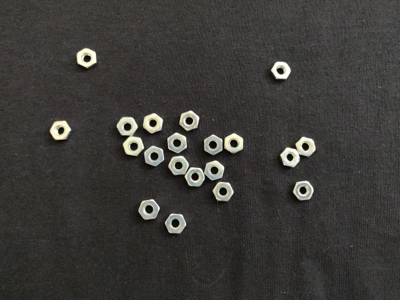nut: (142, 112, 164, 136), (49, 120, 74, 141), (291, 181, 316, 202), (76, 48, 98, 71), (138, 199, 161, 221), (295, 137, 317, 159), (179, 110, 200, 132), (224, 133, 245, 155), (167, 132, 188, 154), (123, 136, 145, 157), (165, 213, 187, 234), (279, 147, 301, 168), (116, 117, 139, 137), (144, 146, 165, 167), (185, 167, 206, 188), (271, 61, 292, 82), (204, 134, 224, 156), (168, 156, 190, 176), (205, 161, 225, 182), (213, 183, 234, 202)
